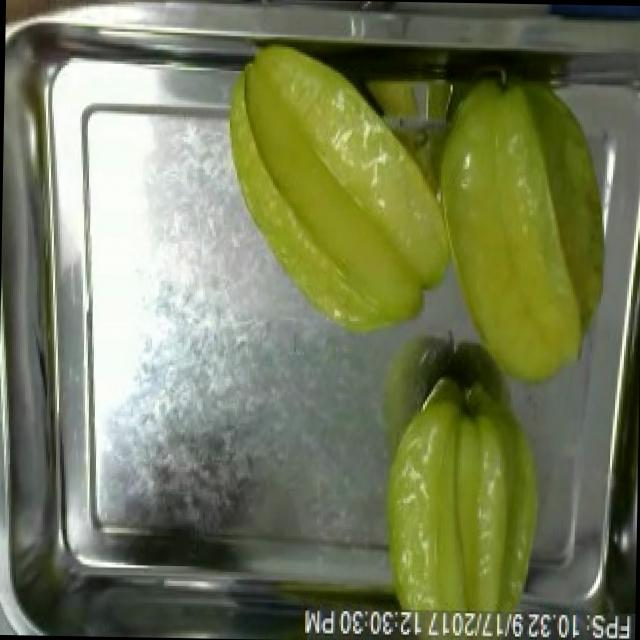fruit: (407, 53, 632, 405), (212, 38, 464, 347), (369, 366, 563, 614)
